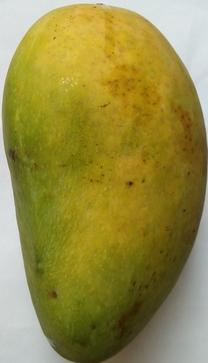PartiallyRipe: (0, 1, 208, 363)
